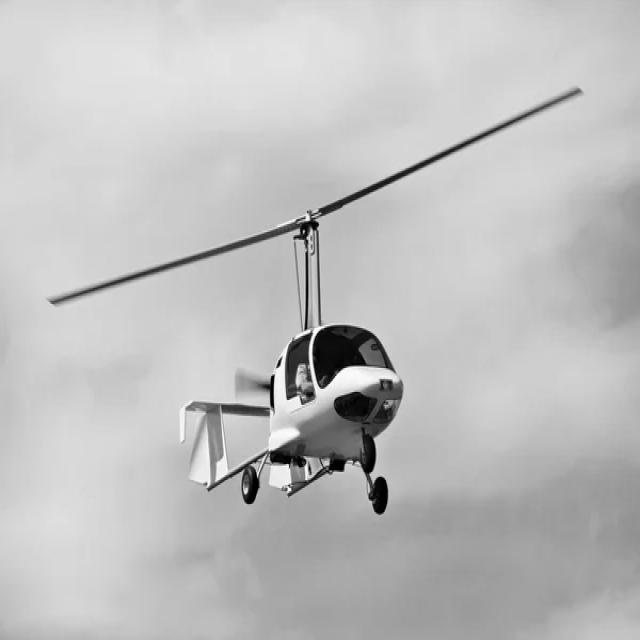Helicopter: (48, 90, 583, 514)
